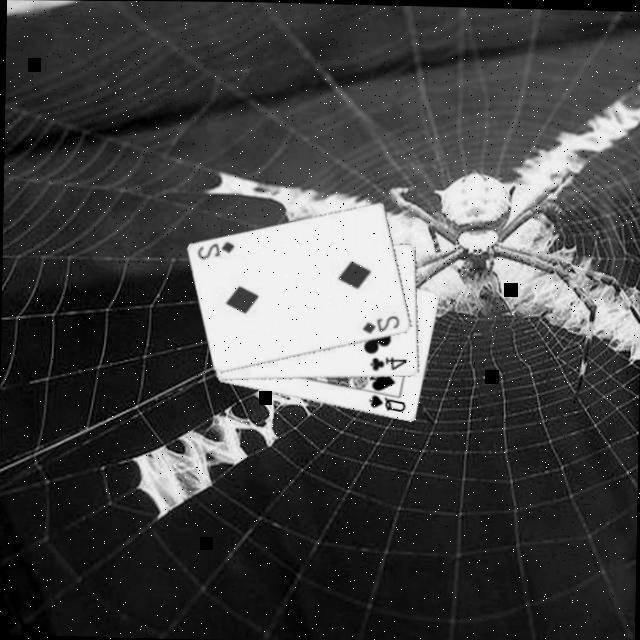2D: (360, 308, 402, 334), (196, 235, 239, 260)
4C: (368, 350, 411, 371)
QS: (366, 389, 409, 412)
